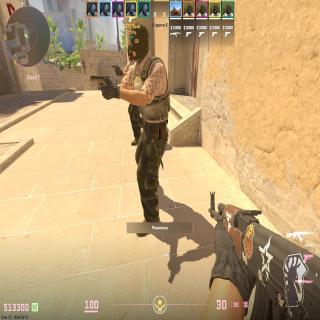T-Body: (123, 24, 170, 228)
T-Head: (129, 23, 149, 61), (126, 45, 132, 59)
